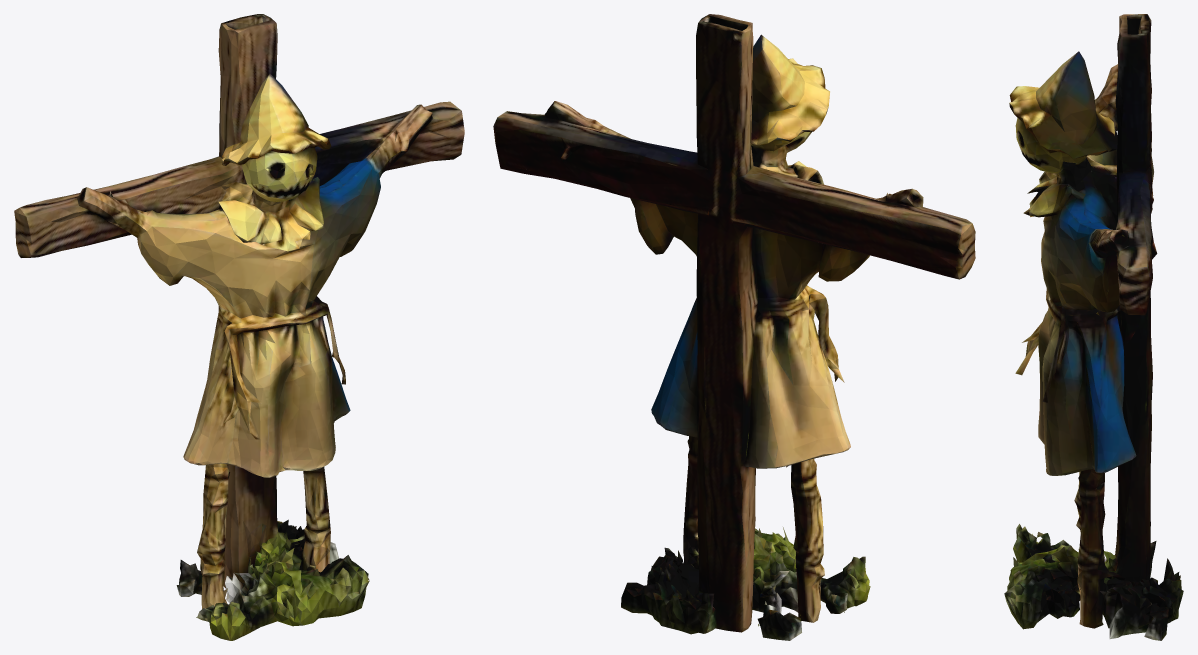
File: farm_scarecrow_01.glb
The picture shows the model from 3 angles, left to right: view 1: azimuth 30°, elevation 25°; view 2: azimuth 150°, elevation 25°; view 3: azimuth 270°, elevation 25°; orthographic projection. The views are drawn at different scales.
Visible parts, largest first — view 1: geometry_0; view 2: geometry_0; view 3: geometry_0.
Part boxes in pixels (x1,y1,x2,y2): geometry_0: [14, 14, 464, 640]; geometry_0: [493, 14, 975, 640]; geometry_0: [1004, 14, 1183, 640].
Size of the model in its own units: 0.8154 by 1 by 0.281.
1 material, 1 textured.
